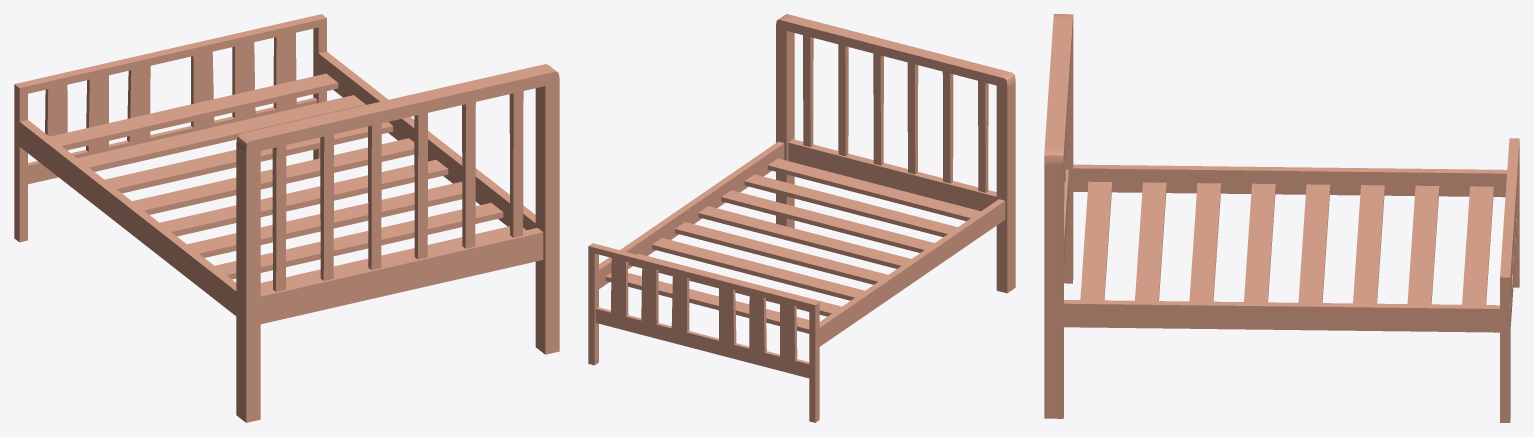
Rendered from cadrelit2.fbx.
The picture shows the model from 3 angles, left to right: view 1: azimuth 30°, elevation 25°; view 2: azimuth 150°, elevation 25°; view 3: azimuth 270°, elevation 25°; orthographic projection. The views are drawn at different scales.
Parts seen in each view (by area): view 1: frame; view 2: frame; view 3: frame.
Boxes of the visible parts, left/top/right/bottom form: frame: left=14, top=14, right=559, bottom=422; frame: left=588, top=14, right=1015, bottom=422; frame: left=1044, top=14, right=1519, bottom=422.
Bounding box in the file's own units: 178 × 150 × 244.
